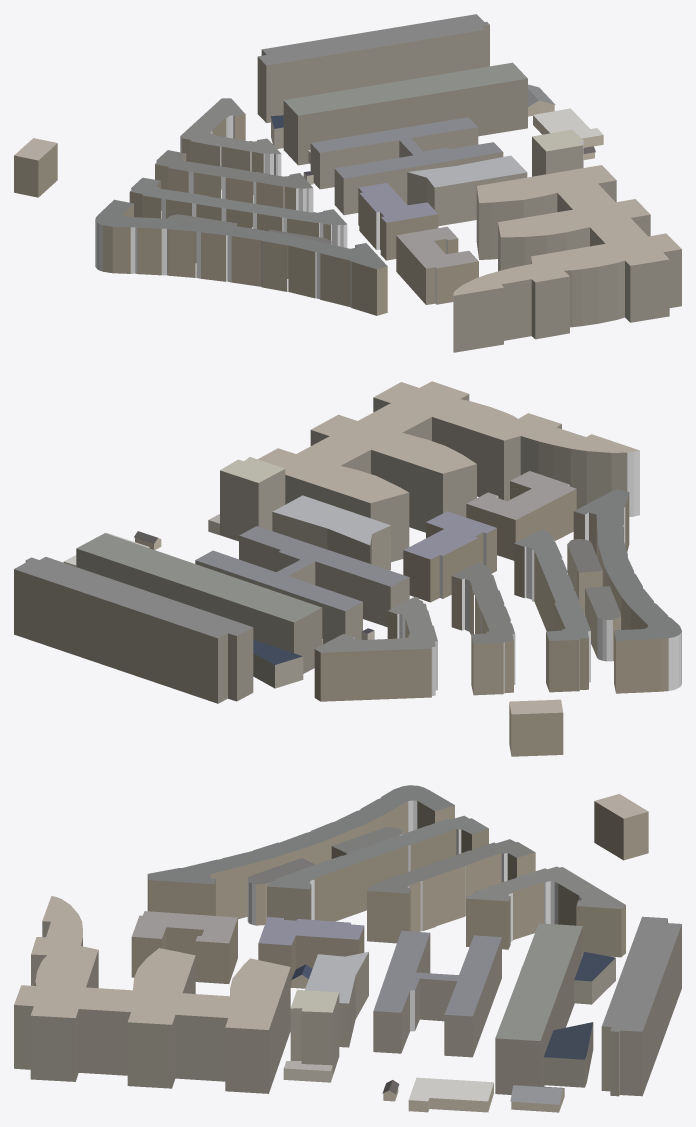
3 views of the same model, one above another, from view 1: azimuth 30°, elevation 25°; view 2: azimuth 150°, elevation 25°; view 3: azimuth 270°, elevation 25° (orthographic). The views are drawn at different scales.
Visible parts, largest first — view 1: tuile; view 2: tuile; view 3: tuile.
Boxes of the visible parts, box(x1,y1,x2,y2) form: tuile: box(14, 14, 681, 352); tuile: box(14, 381, 681, 756); tuile: box(14, 785, 681, 1112).
Size of the model in its own units: 270 by 38.46 by 275.
